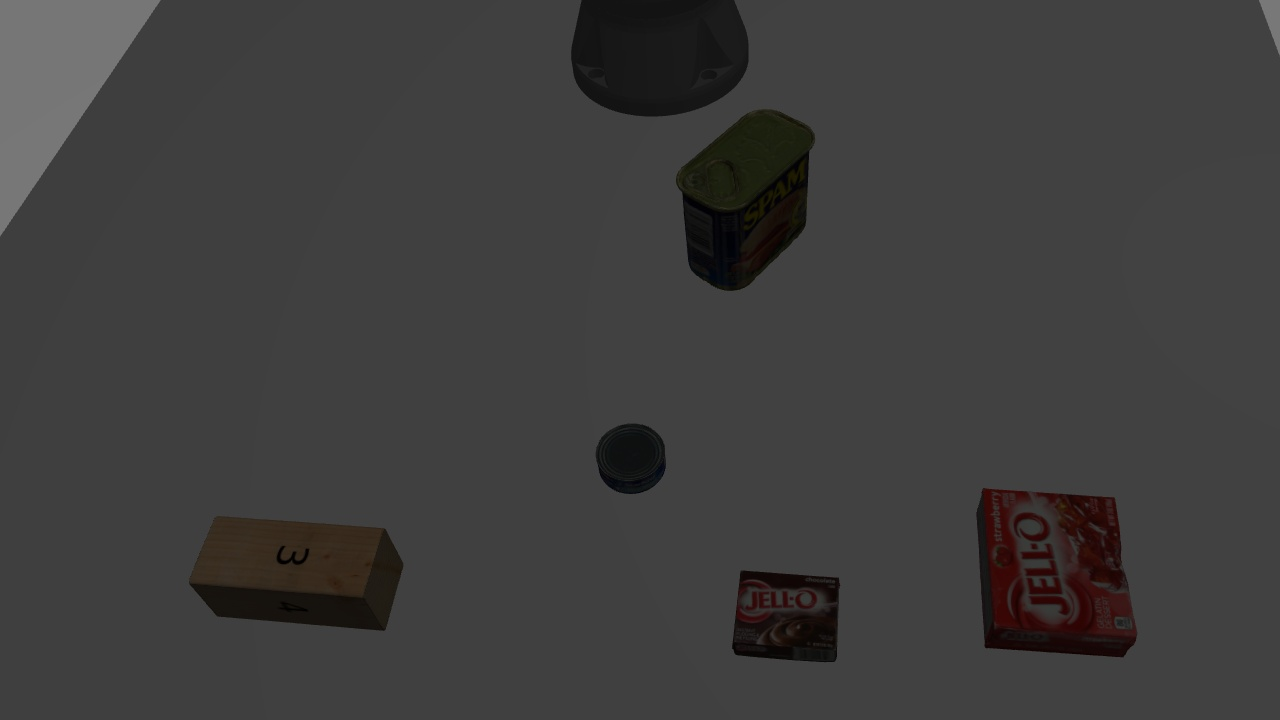gelatin_box: (972, 479, 1140, 620)
potted_meat_can: (663, 104, 815, 291)
pudding_box: (725, 563, 841, 663)
tuna_fish_can: (589, 425, 671, 499)
wood_block: (188, 502, 404, 635)
